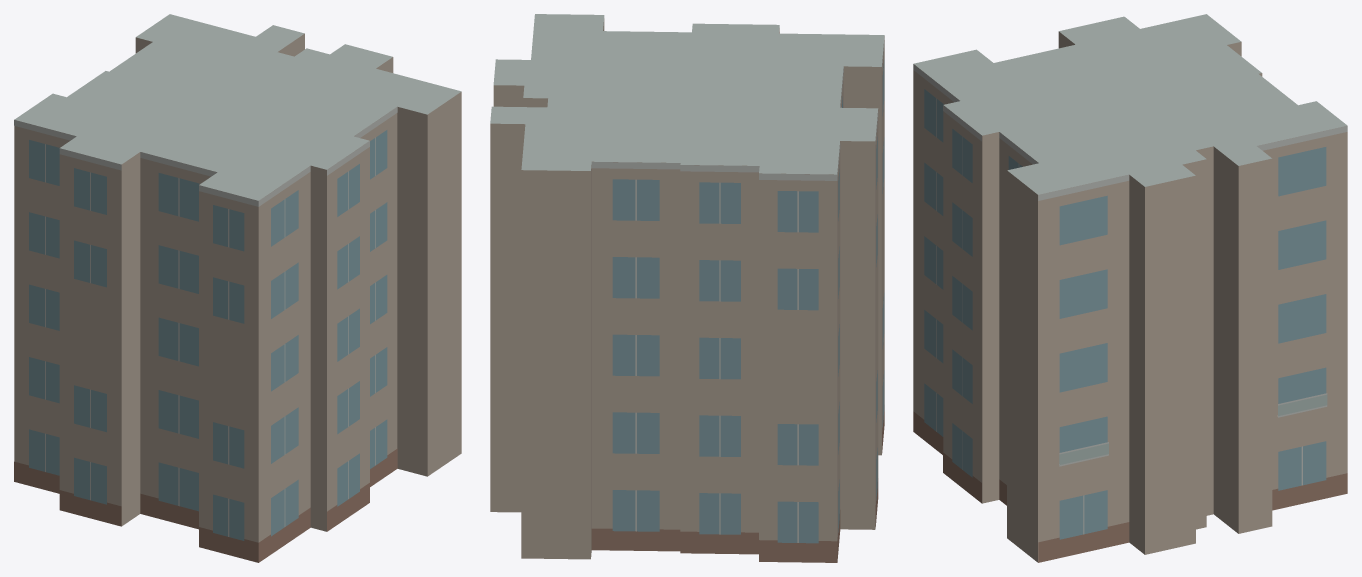
The model's file is survey-upis-32787560.glb.
The picture shows the model from 3 angles, left to right: view 1: azimuth 30°, elevation 25°; view 2: azimuth 150°, elevation 25°; view 3: azimuth 270°, elevation 25°; orthographic projection. The views are drawn at different scales.
Parts seen in each view (by area): view 1: survey-upis-32787560.tmp; view 2: survey-upis-32787560.tmp; view 3: survey-upis-32787560.tmp.
Part boxes in pixels (x1=…): survey-upis-32787560.tmp: x1=14, y1=14, x2=461, y2=562; survey-upis-32787560.tmp: x1=490, y1=14, x2=884, y2=562; survey-upis-32787560.tmp: x1=913, y1=14, x2=1347, y2=562.
Size of the model in its own units: 15.4 by 14.6 by 15.63.
